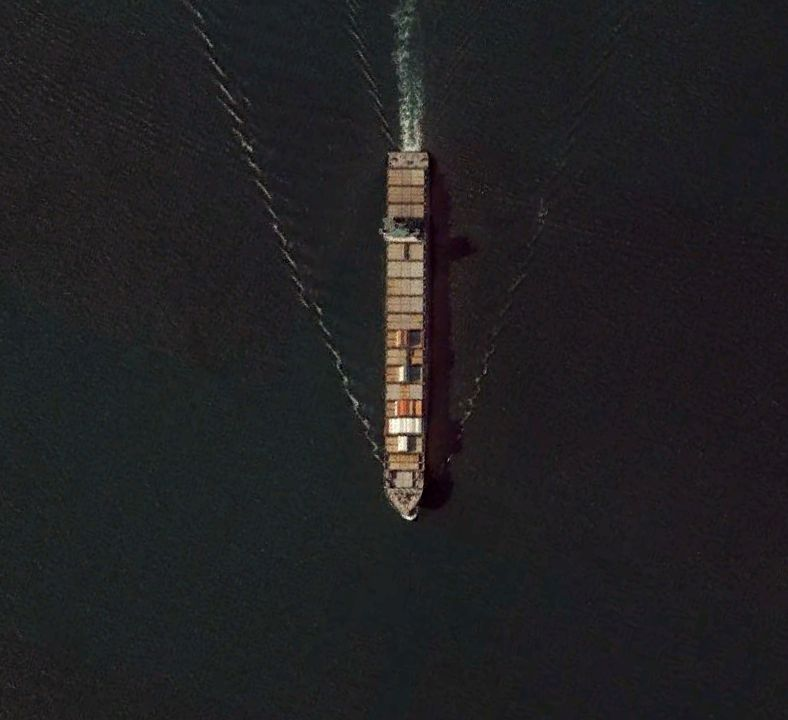boat: (377, 150, 429, 523)
